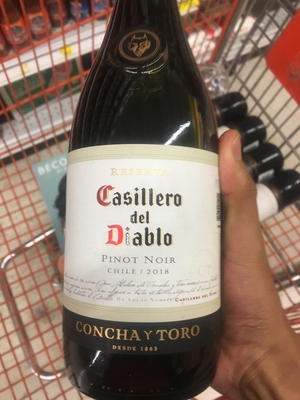casillero del diablo pinot noir: (50, 29, 245, 399)
